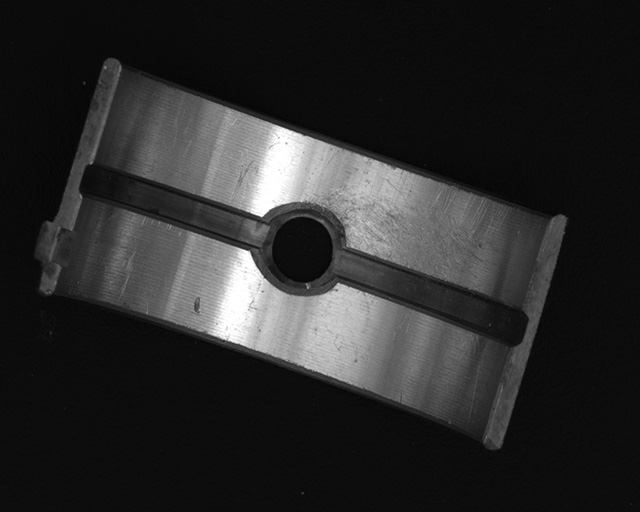bruise: (191, 295, 202, 315)
gap: (336, 251, 525, 347), (81, 163, 268, 247)
hole: (255, 203, 346, 297)
nick: (229, 159, 255, 205), (118, 249, 138, 302)
scratch: (303, 137, 503, 289)
